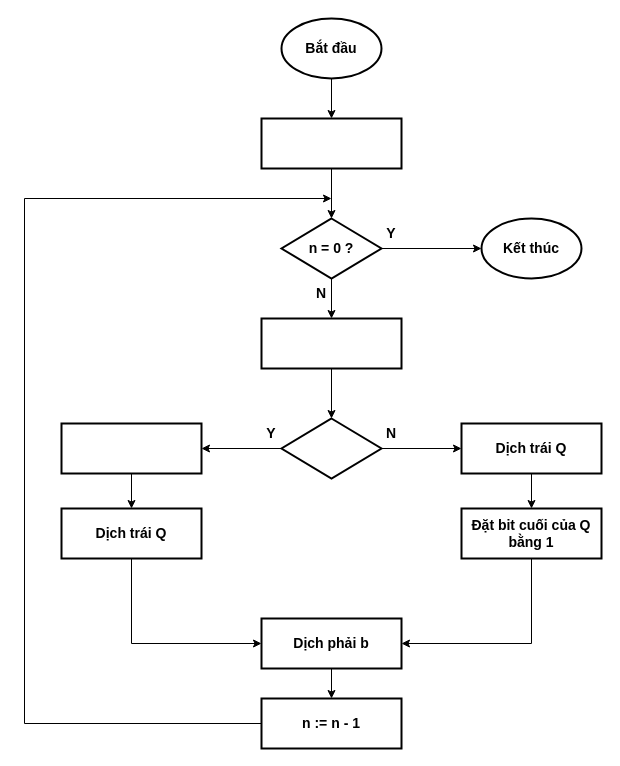
This 620x766 diagram has some shape labels left out. Each missing label, with the centre of its shape:
"Q := 0, R := a, n := 32" belongs at (x=331, y=143).
"R := R + b" belongs at (x=131, y=448).
"R := R - b" belongs at (x=331, y=343).
"R < 0 ?" belongs at (x=331, y=448).
